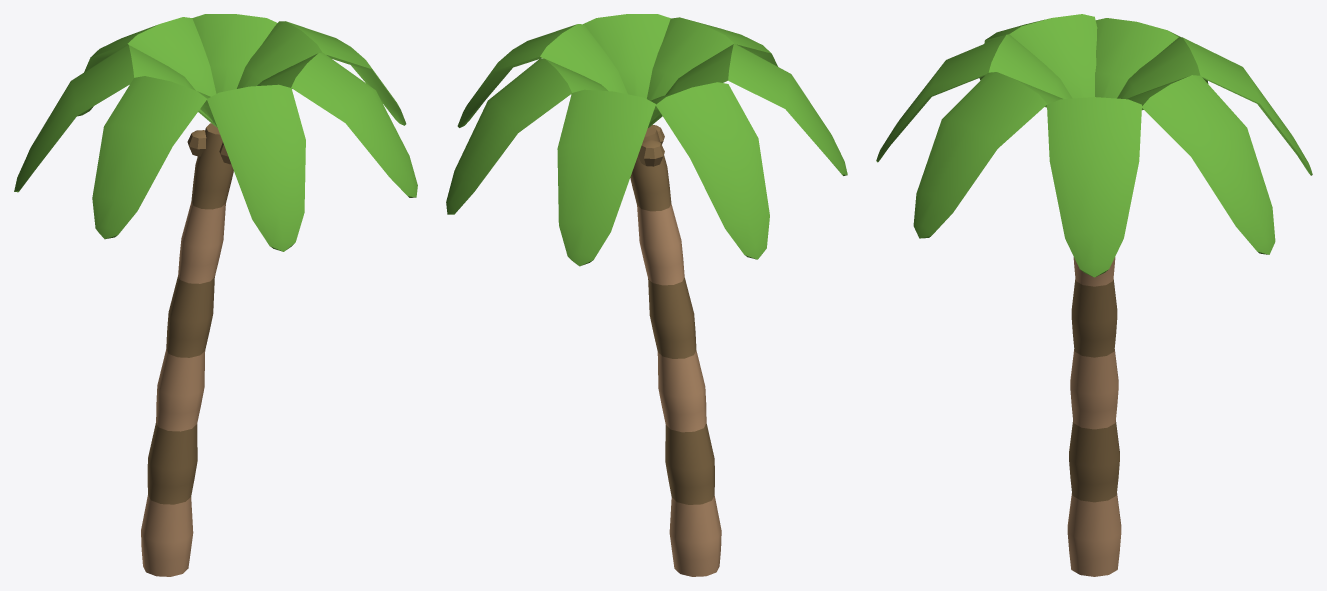
Rendered from palm_tree.glb.
3 views of the same model, side by side, from view 1: azimuth 30°, elevation 25°; view 2: azimuth 150°, elevation 25°; view 3: azimuth 270°, elevation 25° (orthographic). The views are drawn at different scales.
Visible parts, largest first — view 1: Leaves, Trunk, Coconuts; view 2: Leaves, Trunk, Coconuts; view 3: Leaves, Trunk.
Part boxes in pixels (x1,y1,x2,y2): Leaves: (14, 14, 417, 251); Trunk: (141, 123, 233, 576); Coconuts: (187, 130, 230, 164); Leaves: (446, 14, 847, 266); Trunk: (630, 125, 721, 576); Coconuts: (638, 125, 664, 166); Leaves: (876, 14, 1312, 277); Trunk: (1067, 257, 1121, 576).
Size of the model in its own units: 3.06 by 4.27 by 3.12.
